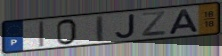0: (55, 18, 79, 46)
A: (167, 8, 201, 36)
I: (95, 15, 105, 44), (38, 20, 45, 48)
J: (114, 13, 137, 40)
Z: (140, 10, 168, 38)
